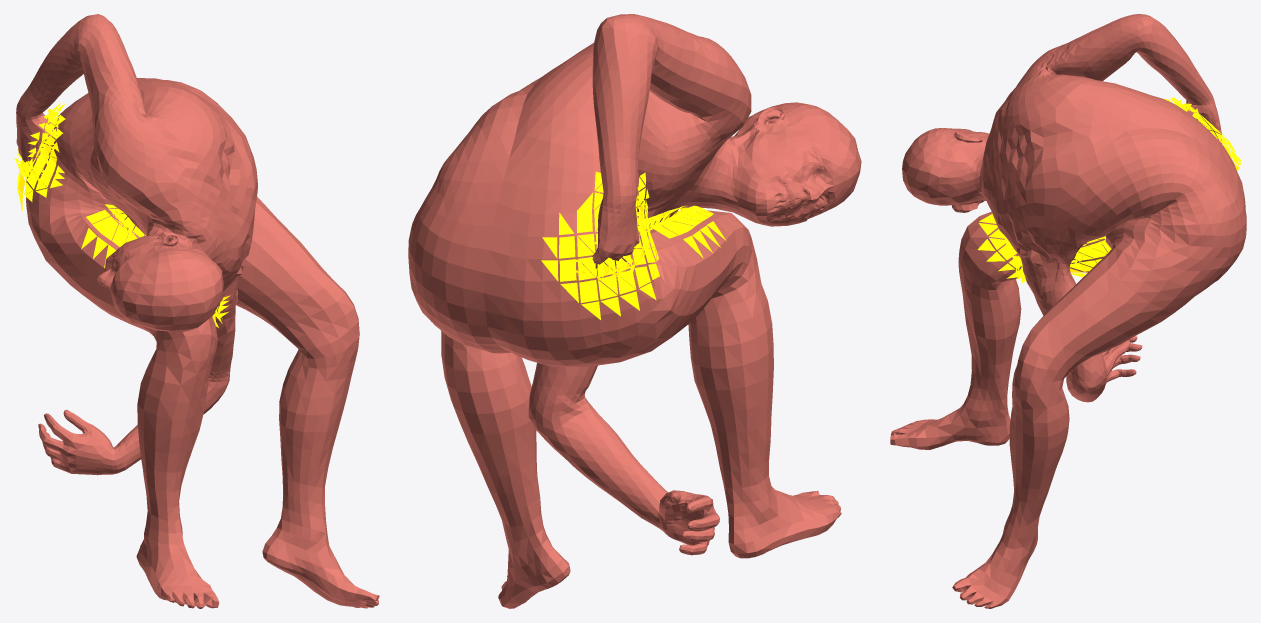
The model's file is hwc_collision_08.glb.
The picture shows the model from 3 angles, left to right: view 1: azimuth 30°, elevation 25°; view 2: azimuth 150°, elevation 25°; view 3: azimuth 270°, elevation 25°; orthographic projection. The views are drawn at different scales.
Visible parts, largest first — view 1: hwc_collision, collision_marker; view 2: hwc_collision, collision_marker; view 3: hwc_collision, collision_marker.
Part boxes in pixels (box(x1,y1,x2,y2)): hwc_collision: box(16, 14, 379, 608); collision_marker: box(14, 103, 230, 327); hwc_collision: box(408, 14, 861, 608); collision_marker: box(541, 171, 726, 319); hwc_collision: box(890, 14, 1246, 608); collision_marker: box(977, 97, 1240, 283).
Bounding box in the file's own units: 0.6143 × 1.18 × 0.7387.
